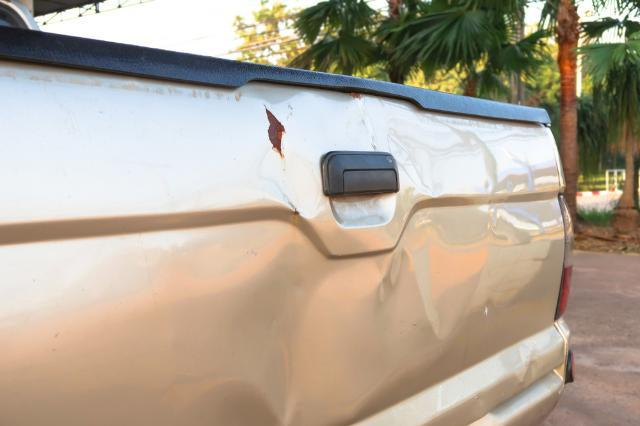dent: (247, 94, 492, 426)
